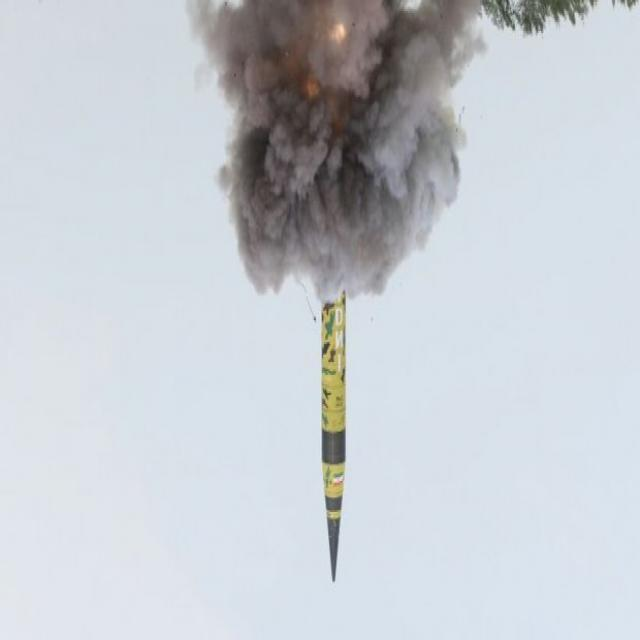Missile: (316, 291, 352, 587)
